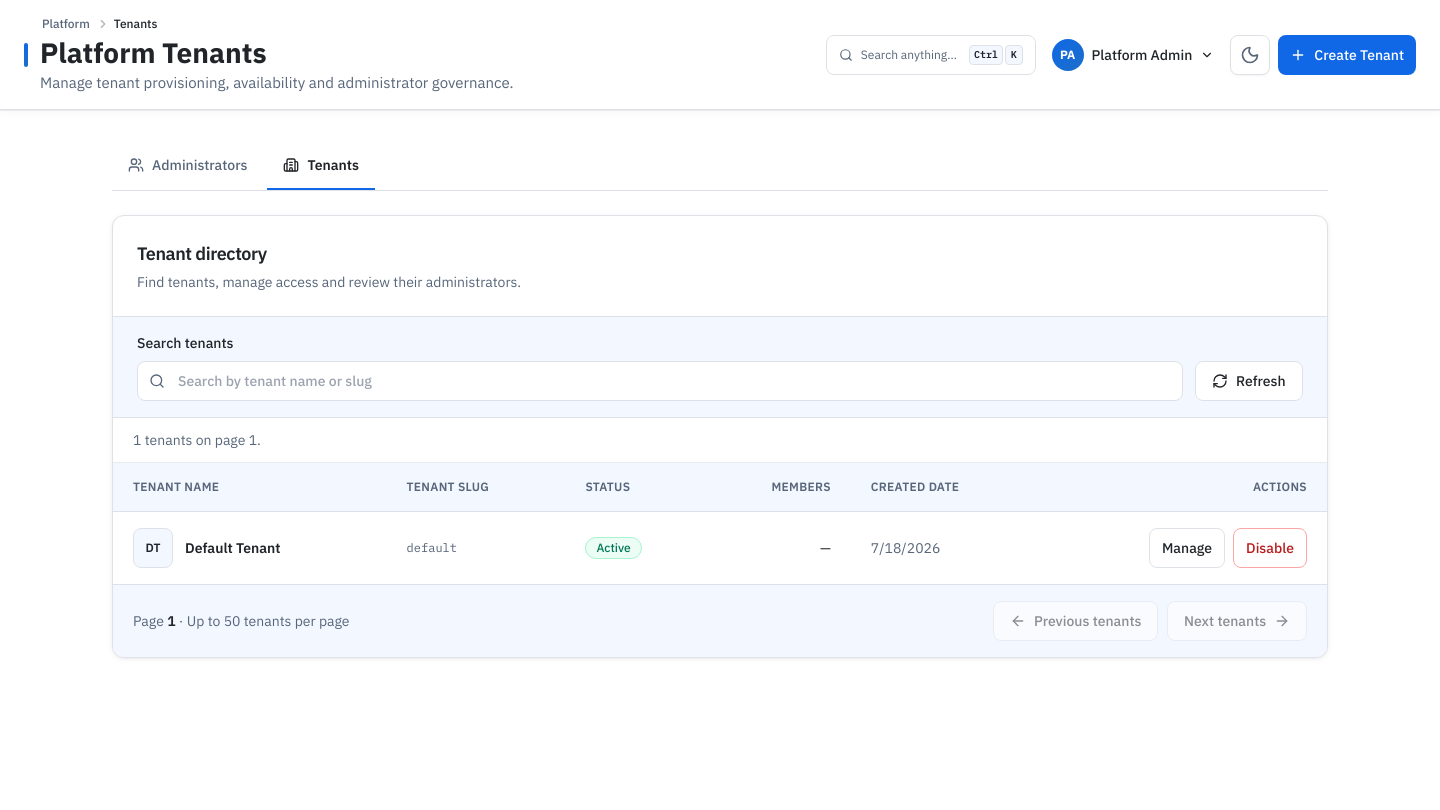
PlatformTenantsPage › shows only the normal local tenant fields and no external IAM requirement
Click the button "Create Tenant": (1347, 55) [1278,35,1416,75]
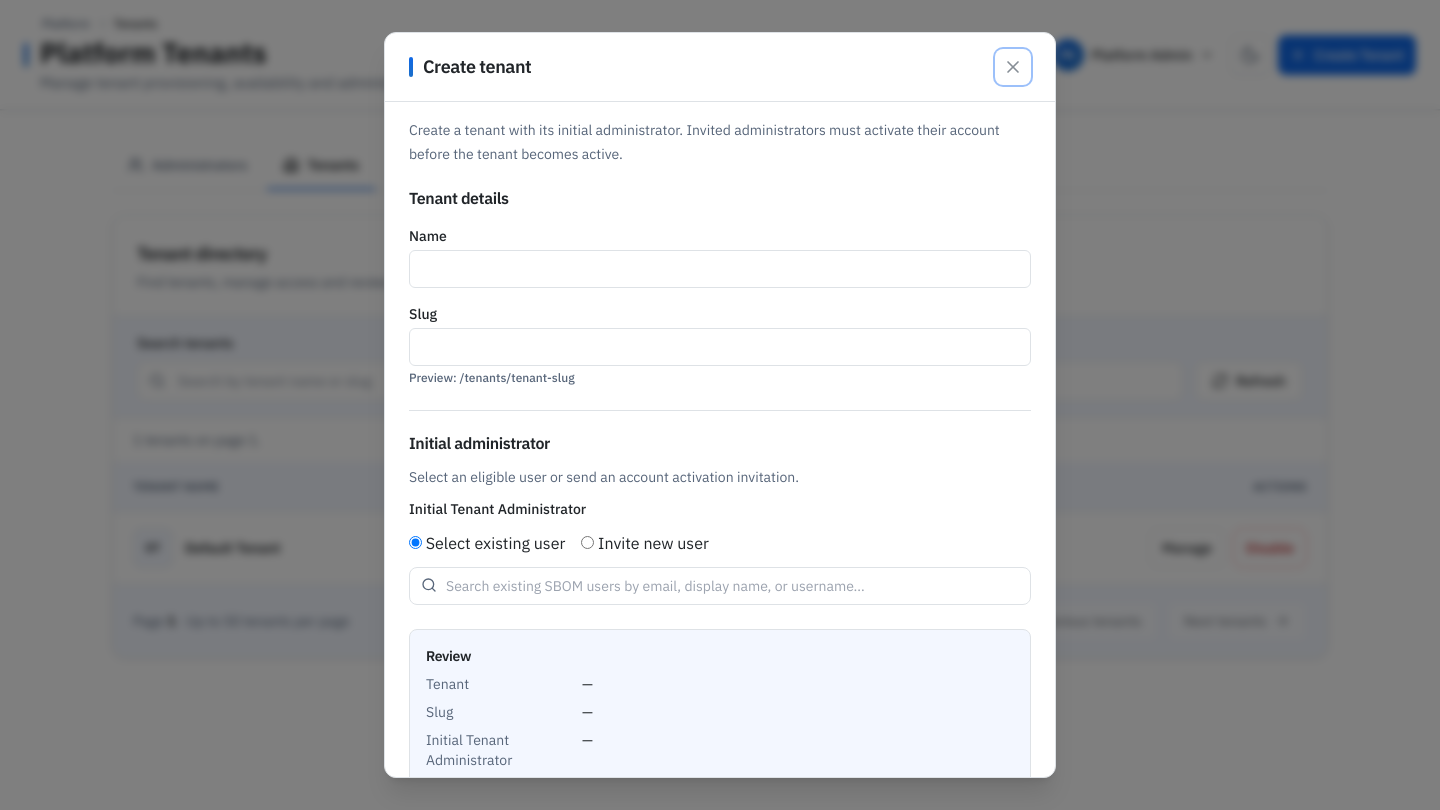
Check: the 1st text "Initial Tenant Administrator" is shown, box [409,500,586,518]
